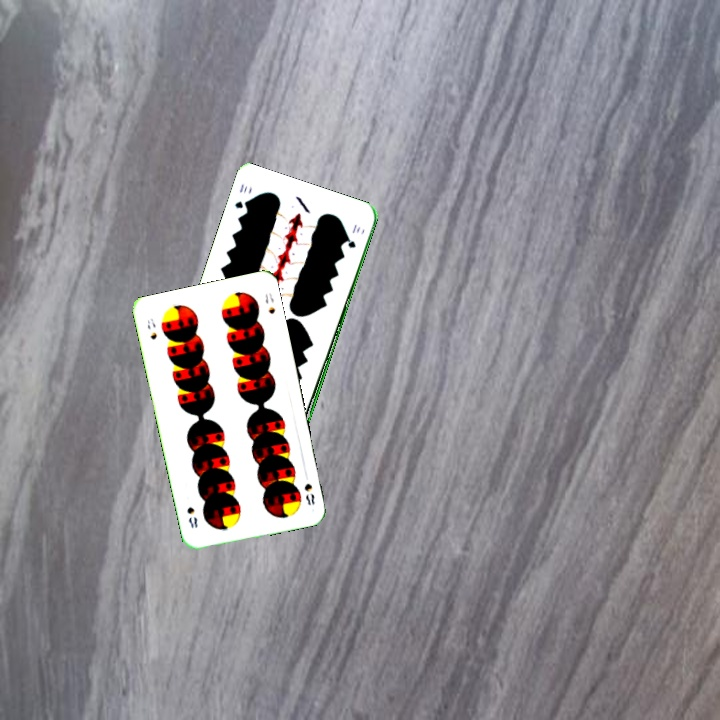G10: (231, 180, 251, 212)
S8: (300, 479, 317, 508), (143, 314, 159, 342)
